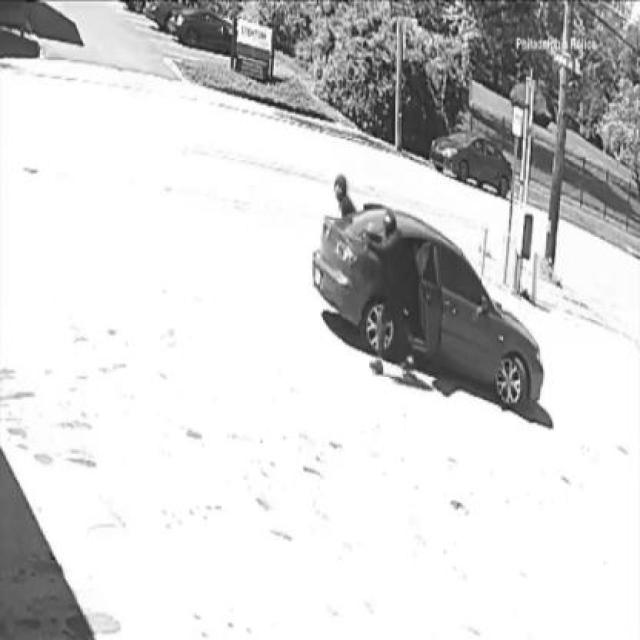weapon: (353, 232, 387, 254)
